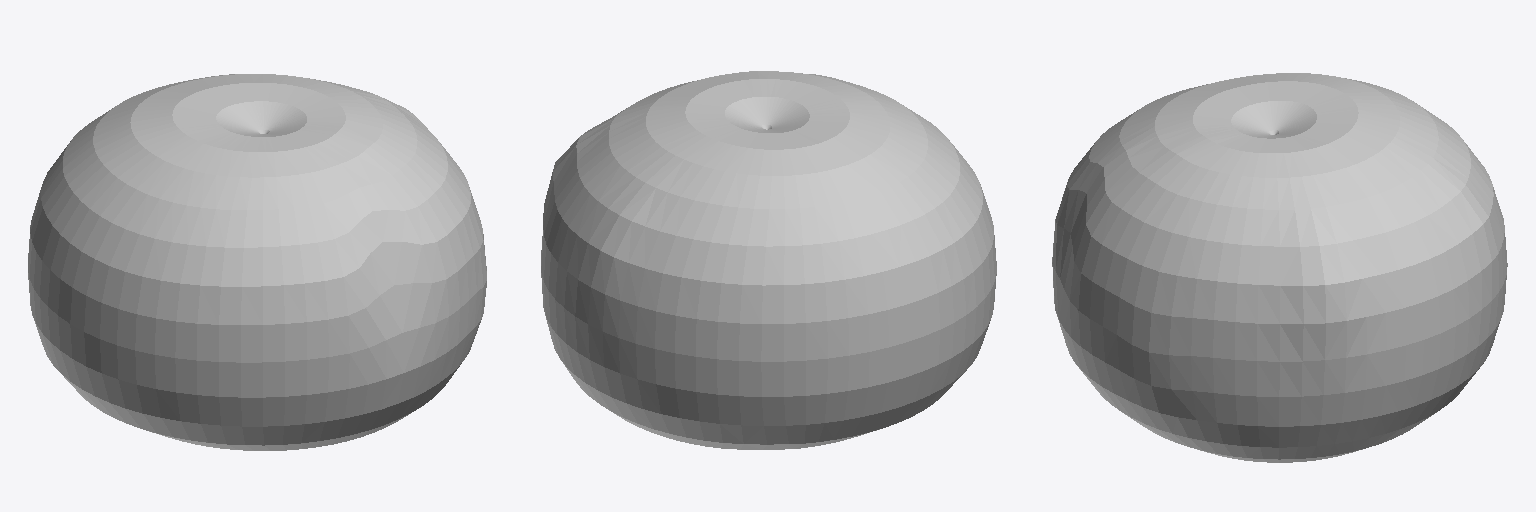
Rendered from Massa.obj.
The picture shows the model from 3 angles: view 1: azimuth 30°, elevation 25°; view 2: azimuth 150°, elevation 25°; view 3: azimuth 270°, elevation 25°; orthographic projection.
Visible parts, largest first — view 1: Berlin.001; view 2: Berlin.001; view 3: Berlin.001.
Part boxes in pixels (x1,y1,x2,y2): Berlin.001: (28, 74, 486, 450); Berlin.001: (541, 71, 996, 449); Berlin.001: (1052, 73, 1507, 462).
Bounding box in the file's own units: 1.17 × 0.7973 × 1.17.